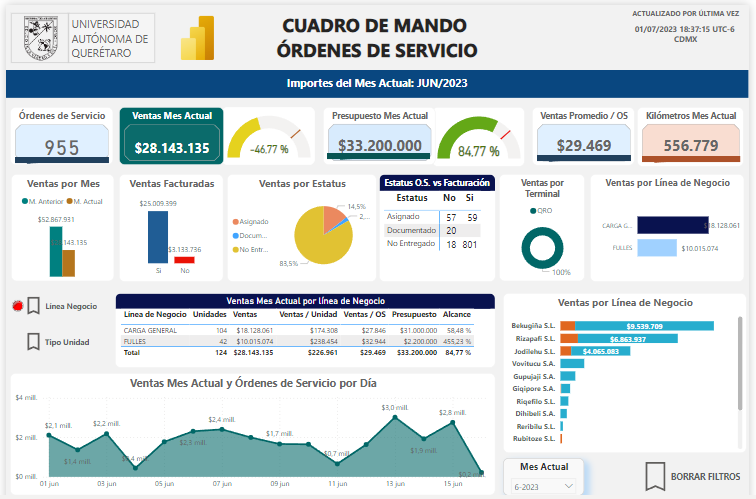

The dashboard page shown, as its layout file describes it:
{"tool":"powerbi","page":{"name":"Página 1","canvas":[1280,865],"ordinal":0},"visuals":[{"type":"slicer","title":"Mes Actual","fields":{"Values":["N Date.Mes-Año"]},"box":[857.5,781.2,140,65],"z":0},{"type":"areaChart","title":"Ventas Mes Actual y Órdenes de Servicio por Día","fields":{"Y":["OrdenesDeServicio.Ventas"],"Category":["N Date.Date"]},"box":[7.1,634.3,837.1,211.4],"z":1000},{"type":"barChart","title":"Ventas por Línea de Negocio","fields":{"Y":["OrdenesDeServicio.Ventas Mes Actual"],"Category":["OrdenesDeServicio.Cliente"],"Series":["OrdenesDeServicio.Facturado"]},"box":[857.1,495.7,420,275.7],"z":2000},{"type":"actionButton","title":"M. Tipo Unidad","box":[28.3,560,120,40],"z":5000},{"type":"actionButton","title":"Botón Borrar Filtros L.N","box":[1088.6,781.4,182,64.3],"z":7000},{"type":"image","title":"B. Rojo Línea de Negocio","box":[5,503.3,30,30],"z":8000},{"type":"actionButton","title":"M. Línea Negocio","box":[28.3,498.3,133.3,40],"z":9000},{"type":"tableEx","title":"Ventas Mes Actual por línea de Negocio","fields":{"Values":["OrdenesDeServicio.Linea_Negocio","OrdenesDeServicio.Unidades Distintas con Operacion Mes Actual","OrdenesDeServicio.Ventas Mes Actual","OrdenesDeServicio.Venta promedio por Unidad Mes Actual","OrdenesDeServicio.Ventas Promedio por OS Mes Actual","PresupuestoDetalleTrafico.Suma Presupuesto Importe Mes Actual","PresupuestoDetalleTrafico.Alcance Presupuesto Mes Actual"]},"box":[188.6,495.7,655.7,128.6],"z":10000},{"type":"clusteredBarChart","title":"Ventas por Línea de Negocio","fields":{"Category":["OrdenesDeServicio.Linea_Negocio"],"Y":["OrdenesDeServicio.Ventas Mes Actual"]},"box":[1006.2,291.2,266.2,186.2],"z":11000},{"type":"donutChart","title":"Ventas por Terminal","fields":{"Category":["OrdenesDeServicio.Terminal"],"Y":["OrdenesDeServicio.Ventas Mes Actual"]},"box":[850,291.2,147.5,185],"z":12000},{"type":"pivotTable","title":"Estatus O.S. vs Facturación","fields":{"Rows":["OrdenesDeServicio.Estatus"],"Values":["OrdenesDeServicio.Ordenes de Servicio Mes Actual"],"Columns":["OrdenesDeServicio.Facturado"]},"box":[642.9,291,201.4,185.7],"z":13000},{"type":"pieChart","title":"Ventas por Estatus","fields":{"Y":["OrdenesDeServicio.Ventas Mes Actual"],"Category":["OrdenesDeServicio.Estatus"]},"box":[381.2,291.2,257.5,186.2],"z":14000},{"type":"clusteredColumnChart","title":"Ventas Facturadas","fields":{"Category":["OrdenesDeServicio.Facturado"],"Y":["OrdenesDeServicio.Ventas Mes Actual"]},"box":[194.3,291.4,180,185.7],"z":15000},{"type":"clusteredColumnChart","title":"Ventas  por Mes","fields":{"Y":["OrdenesDeServicio.Ventas Mes Anterior","OrdenesDeServicio.Ventas Mes Actual"]},"box":[8.3,291.7,178.3,185],"z":16000},{"type":"cardVisual","title":"Kilómetros Mes Actual","fields":{"Data":["OrdenesDeServicio.Kilometros Vendidos Mes Actual"]},"box":[1088.6,175,184.3,102.9],"z":17000},{"type":"cardVisual","title":"Ventas Promedio / OS","fields":{"Data":["OrdenesDeServicio.Ventas Promedio por OS Mes Actual"]},"box":[907.1,175,177.1,101.4],"z":18000},{"type":"gauge","fields":{"Y":["PresupuestoDetalleTrafico.Alcance Presupuesto Mes Actual"]},"box":[733.8,175,160,102.5],"z":19000},{"type":"cardVisual","title":"Presupuesto Mes Actual","fields":{"Data":["PresupuestoDetalleTrafico.Suma Presupuesto Importe Mes Actual"]},"box":[545.7,175,194.3,100],"z":20000},{"type":"gauge","fields":{"Y":["OrdenesDeServicio.Variacion Ventas Mes Actual vs Mes Anterior"]},"box":[372.5,175,160,100],"z":21000},{"type":"cardVisual","title":"Ventas Mes Actual","fields":{"Data":["OrdenesDeServicio.Ventas Mes Actual"]},"box":[194.3,175,181,100],"z":22000},{"type":"cardVisual","title":"Órdenes de Servicio","fields":{"Data":["OrdenesDeServicio.Ordenes de Servicio Mes Actual"]},"box":[7.5,175,177.5,100],"z":23000},{"type":"card","title":"Leyenda principal","fields":{"Values":["N Date.Leyendra Principal"]},"box":[0,111.7,1280,48.3],"z":24000},{"type":"card","title":"ACTUALIZADO POR ÚLTIMA VEZ","fields":{"Values":["N LastRefreshLocal.Last Refreshed (Local)"]},"box":[1068,5,209,74],"z":25000},{"type":"textbox","title":"TITULO","box":[421.7,6.7,435,100],"z":26000},{"type":"image","title":"PBI","box":[284.3,14.3,90,85.7],"z":27000},{"type":"textbox","title":"NUAQ","box":[107.1,14.3,150,85.7],"z":28000},{"type":"image","title":"Logo","box":[8.6,14.3,100,85.7],"z":29000},{"type":"shape","title":"TKMA","box":[1096,260,170,12],"z":30500},{"type":"shape","title":"TVPOS","box":[916,258,162,12],"z":32000},{"type":"shape","title":"TPMA","box":[554,256,178,12],"z":32500},{"type":"shape","title":"TOS","box":[16,262,162,12],"z":33500}]}

Visuals, with their boxes in screenshot pixels (x1, y1, x2, y2), scaled from the page's 1280x865 canvas onto the 756x499 screenshot:
"Mes Actual" slicer: x1=506 y1=451 x2=589 y2=488
"Ventas Mes Actual y Órdenes de Servicio por Día" areaChart: x1=4 y1=366 x2=499 y2=488
"Ventas por Línea de Negocio" barChart: x1=506 y1=286 x2=754 y2=445
"M. Tipo Unidad" actionButton: x1=17 y1=323 x2=88 y2=346
"Botón Borrar Filtros L.N" actionButton: x1=643 y1=451 x2=750 y2=488
"B. Rojo Línea de Negocio" image: x1=3 y1=290 x2=21 y2=308
"M. Línea Negocio" actionButton: x1=17 y1=287 x2=95 y2=311
"Ventas Mes Actual por línea de Negocio" tableEx: x1=111 y1=286 x2=499 y2=360
"Ventas por Línea de Negocio" clusteredBarChart: x1=594 y1=168 x2=752 y2=275
"Ventas por Terminal" donutChart: x1=502 y1=168 x2=589 y2=275
"Estatus O.S. vs Facturación" pivotTable: x1=380 y1=168 x2=499 y2=275
"Ventas por Estatus" pieChart: x1=225 y1=168 x2=377 y2=275
"Ventas Facturadas" clusteredColumnChart: x1=115 y1=168 x2=221 y2=275
"Ventas  por Mes" clusteredColumnChart: x1=5 y1=168 x2=110 y2=275
"Kilómetros Mes Actual" cardVisual: x1=643 y1=101 x2=752 y2=160
"Ventas Promedio / OS" cardVisual: x1=536 y1=101 x2=640 y2=159
gauge - PresupuestoDetalleTrafico.Alcance Presupuesto Mes Actual: x1=433 y1=101 x2=528 y2=160
"Presupuesto Mes Actual" cardVisual: x1=322 y1=101 x2=437 y2=159
gauge - OrdenesDeServicio.Variacion Ventas Mes Actual vs Mes Anterior: x1=220 y1=101 x2=315 y2=159
"Ventas Mes Actual" cardVisual: x1=115 y1=101 x2=222 y2=159
"Órdenes de Servicio" cardVisual: x1=4 y1=101 x2=109 y2=159
"Leyenda principal" card: x1=0 y1=64 x2=755 y2=92
"ACTUALIZADO POR ÚLTIMA VEZ" card: x1=631 y1=3 x2=754 y2=46
"TITULO" textbox: x1=249 y1=4 x2=506 y2=62
"PBI" image: x1=168 y1=8 x2=221 y2=58
"NUAQ" textbox: x1=63 y1=8 x2=152 y2=58
"Logo" image: x1=5 y1=8 x2=64 y2=58
"TKMA" shape: x1=647 y1=150 x2=748 y2=157
"TVPOS" shape: x1=541 y1=149 x2=637 y2=156
"TPMA" shape: x1=327 y1=148 x2=432 y2=155
"TOS" shape: x1=9 y1=151 x2=105 y2=158
